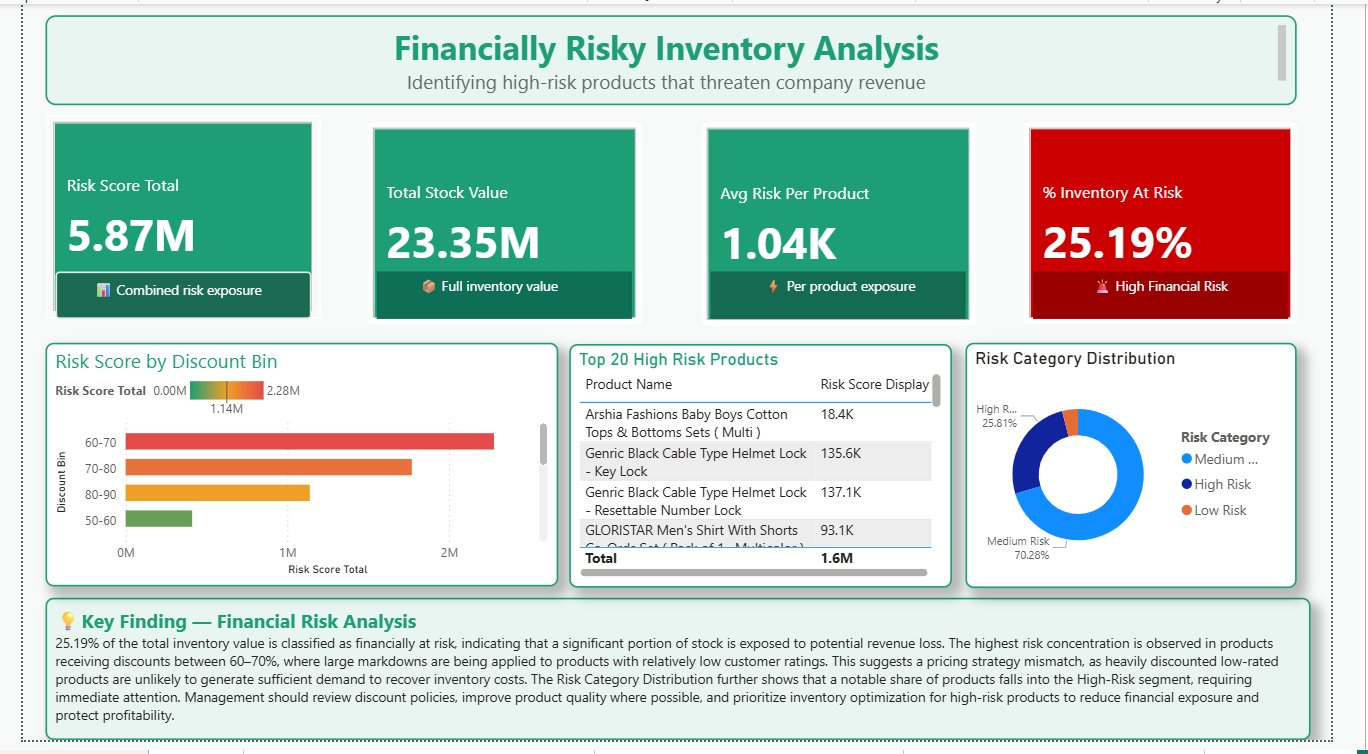

The dashboard page shown, as its layout file describes it:
{"tool":"powerbi","page":{"name":"[Page 5] Financially Risky Inventory KPI","canvas":[1280,720],"ordinal":4},"visuals":[{"type":"textbox","box":[22,580.8,1237.5,139.4],"z":0},{"type":"textbox","box":[22,11,1224.1,88],"z":1000},{"type":"clusteredBarChart","title":"Risk Score by Discount Bin","fields":{"Category":["snapdeal_products.Discount Bin"],"Y":["snapdeal_products.Risk Score Total"]},"box":[22,331.4,501.4,238.5],"z":2000},{"type":"tableEx","title":"Top 20 High Risk Products","fields":{"Values":["snapdeal_products.Product Name","snapdeal_products.Risk Score Display"]},"box":[534.4,332.6,374.2,238.5],"z":3000},{"type":"cardVisual","fields":{"Data":["snapdeal_products.Risk Score Total"]},"box":[23.2,108.8,267.8,199.3],"z":4000},{"type":"textbox","box":[31.8,261.7,250.7,46.5],"z":5000},{"type":"cardVisual","fields":{"Data":["snapdeal_products.Total Stock Value"]},"box":[337.5,116.2,267.8,196.9],"z":6000},{"type":"textbox","box":[346.1,261.7,249.5,46.5],"z":7000},{"type":"cardVisual","fields":{"Data":["snapdeal_products.Avg Risk Per Product"]},"box":[664,116.2,267.8,198.1],"z":8000},{"type":"textbox","box":[672.6,261.7,249.5,46.5],"z":9000},{"type":"cardVisual","title":"% Inventory At Risk","fields":{"Data":["snapdeal_products.% Inventory At Risk Display"]},"box":[979.5,116.2,266.6,196.9],"z":10000},{"type":"textbox","box":[988,261.7,249.5,46.5],"z":11000},{"type":"donutChart","title":"Risk Category Distribution","fields":{"Category":["snapdeal_products.Risk Category"],"Y":["CountNonNull(snapdeal_products.Product Name)"]},"box":[922,331.4,324.1,239.7],"z":12000}]}

Visuals, with their boxes in screenshot pixels (x1, y1, x2, y2), scaled from the page's 1280x720 canvas onto the 1368x754 screenshot:
textbox: x1=24 y1=608 x2=1346 y2=753
textbox: x1=24 y1=12 x2=1332 y2=104
"Risk Score by Discount Bin" clusteredBarChart: x1=24 y1=347 x2=559 y2=597
"Top 20 High Risk Products" tableEx: x1=571 y1=348 x2=971 y2=598
cardVisual - snapdeal_products.Risk Score Total: x1=25 y1=114 x2=311 y2=323
textbox: x1=34 y1=274 x2=302 y2=323
cardVisual - snapdeal_products.Total Stock Value: x1=361 y1=122 x2=647 y2=328
textbox: x1=370 y1=274 x2=637 y2=323
cardVisual - snapdeal_products.Avg Risk Per Product: x1=710 y1=122 x2=996 y2=329
textbox: x1=719 y1=274 x2=985 y2=323
"% Inventory At Risk" cardVisual: x1=1047 y1=122 x2=1332 y2=328
textbox: x1=1056 y1=274 x2=1323 y2=323
"Risk Category Distribution" donutChart: x1=985 y1=347 x2=1332 y2=598
